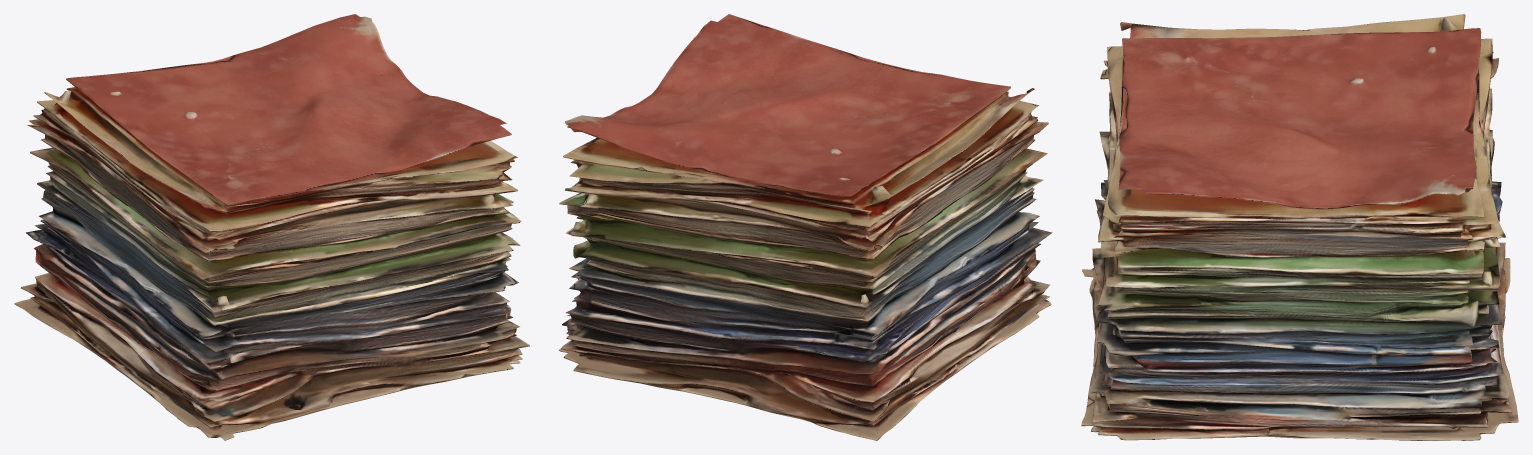
The model's file is theme-craft-paper-v05.glb.
3 views of the same model, side by side, from view 1: azimuth 30°, elevation 25°; view 2: azimuth 150°, elevation 25°; view 3: azimuth 270°, elevation 25° (orthographic). The views are drawn at different scales.
Visible parts, largest first — view 1: tripo_node_14309afa-cda6-4a28-91b9-51b5555349ef; view 2: tripo_node_14309afa-cda6-4a28-91b9-51b5555349ef; view 3: tripo_node_14309afa-cda6-4a28-91b9-51b5555349ef.
Boxes of the visible parts, x1,y1,x2,y2 form: tripo_node_14309afa-cda6-4a28-91b9-51b5555349ef: (14, 14, 529, 440); tripo_node_14309afa-cda6-4a28-91b9-51b5555349ef: (558, 14, 1052, 440); tripo_node_14309afa-cda6-4a28-91b9-51b5555349ef: (1081, 14, 1518, 440).
Size of the model in its own units: 0.1832 by 0.12 by 0.1855.
Materials: 1 (1 with a texture image).
